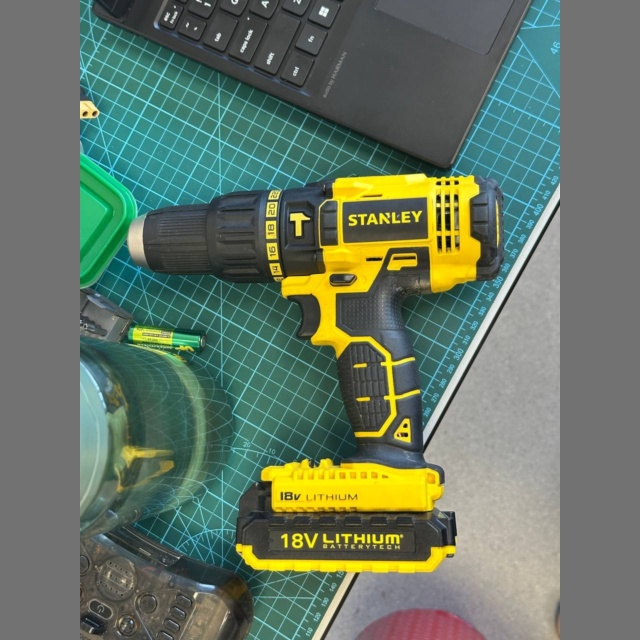drill: (128, 174, 504, 572)
